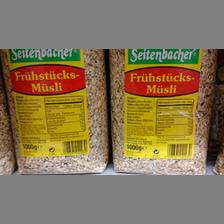Cerealien: (0, 48, 110, 172), (108, 48, 216, 174)
